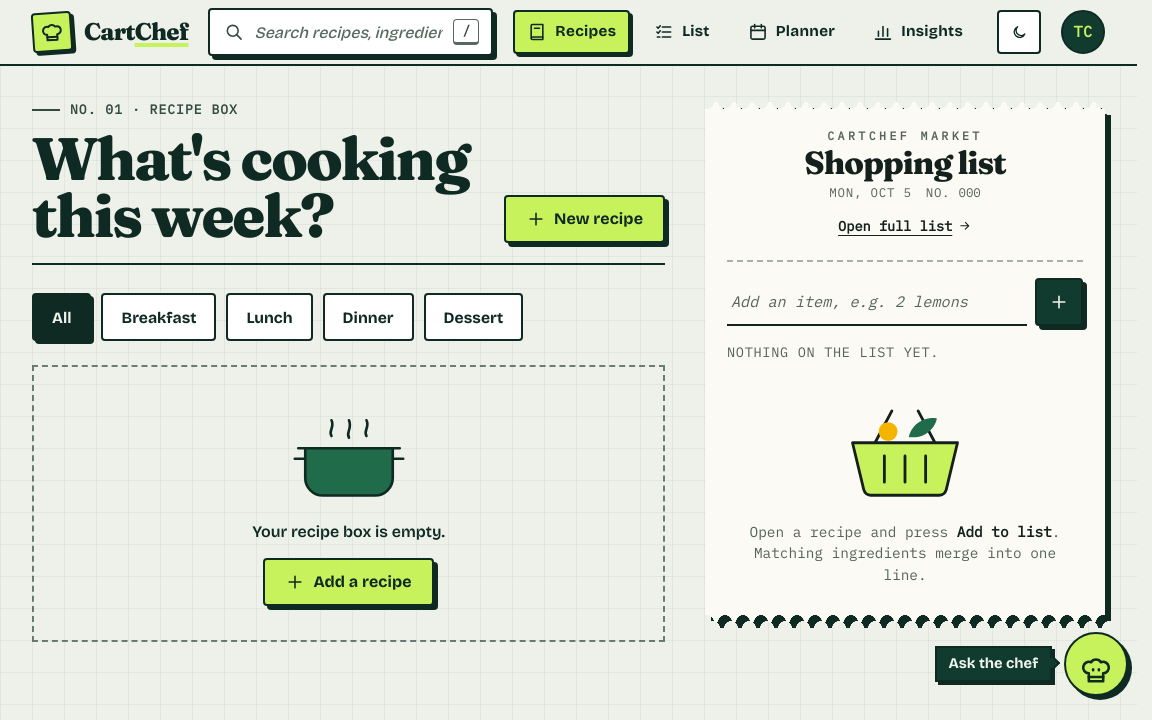
Test case: signed-in session › cancelling the delete dialog keeps the account
The image size is (1152, 720).
Click the button with aria-label "Account menu": x=1083, y=32 [1061, 10, 1105, 54]
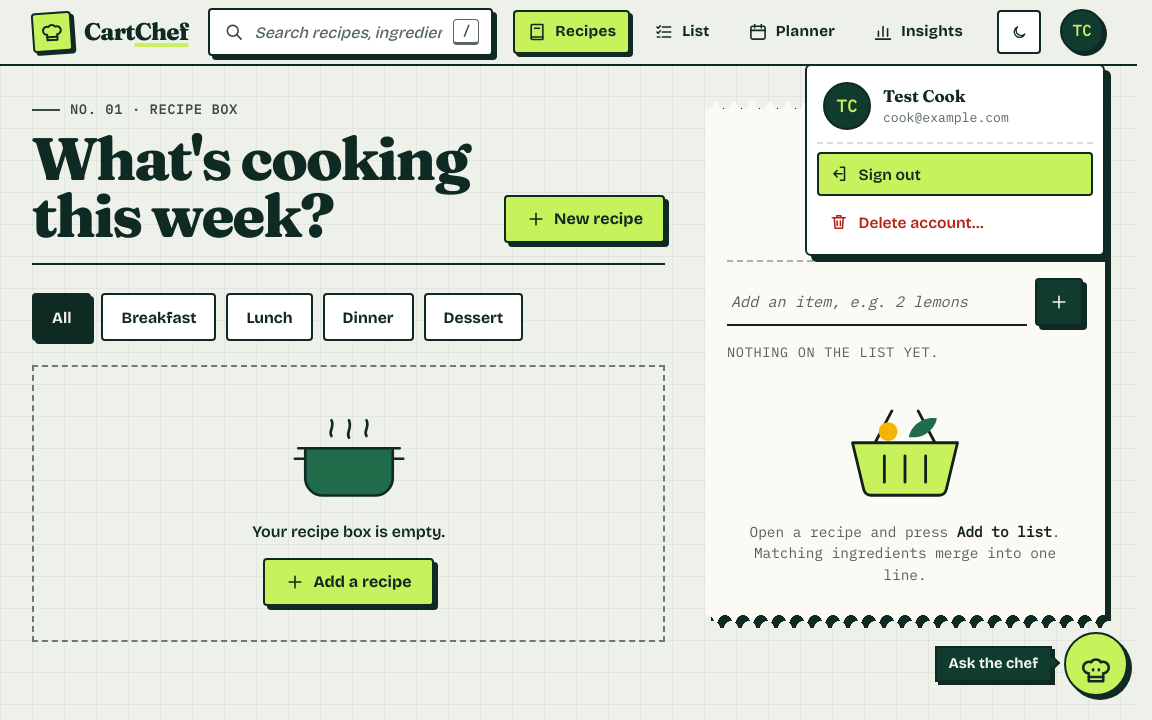
Click the menu item "Delete account…": x=955, y=222 [817, 200, 1093, 244]
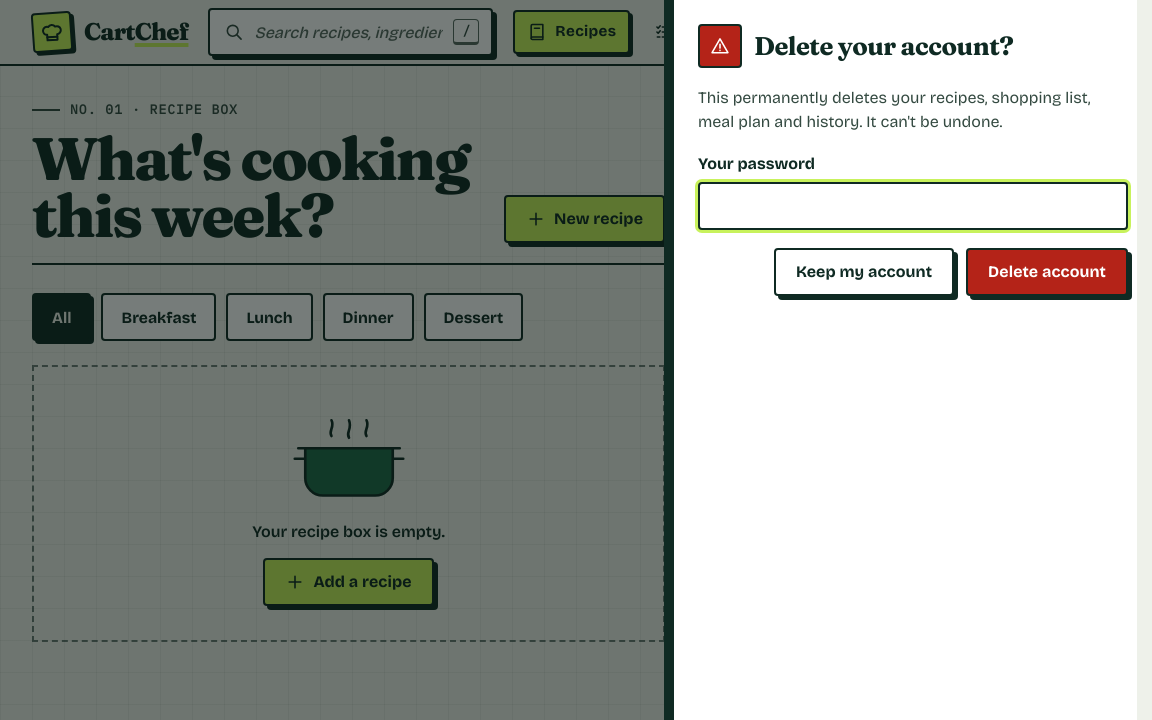
Click the button "Keep my account": x=864, y=272 [774, 248, 954, 296]
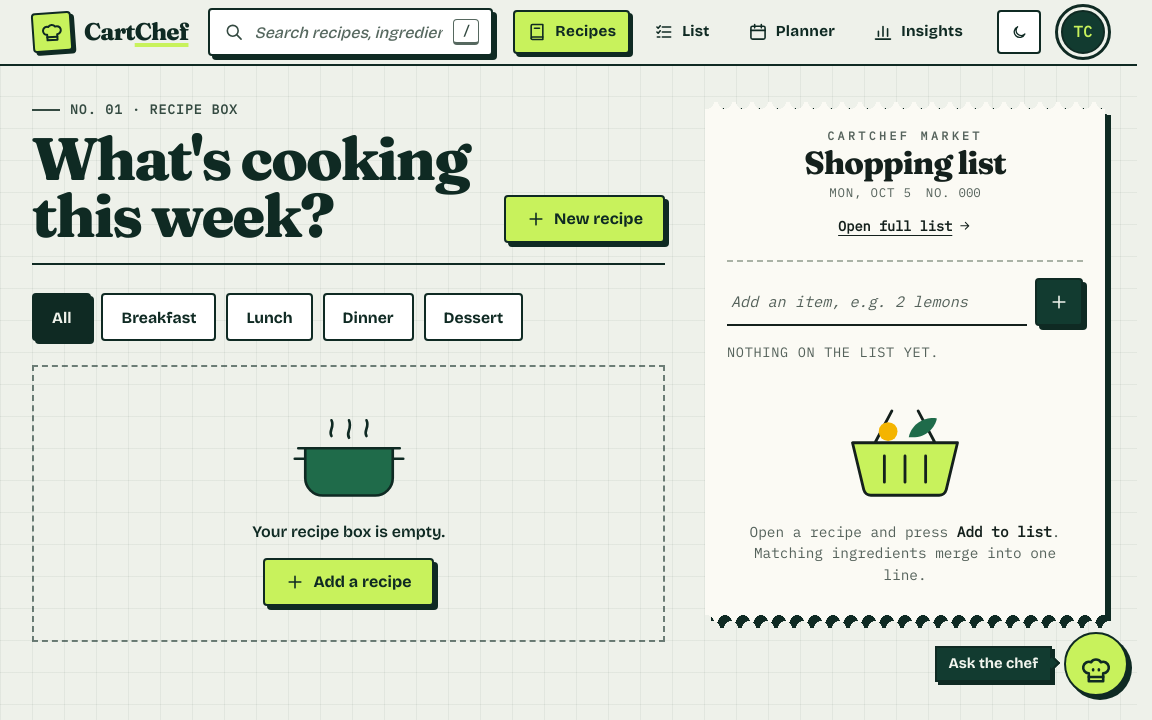
Expected: the dialog is gone
